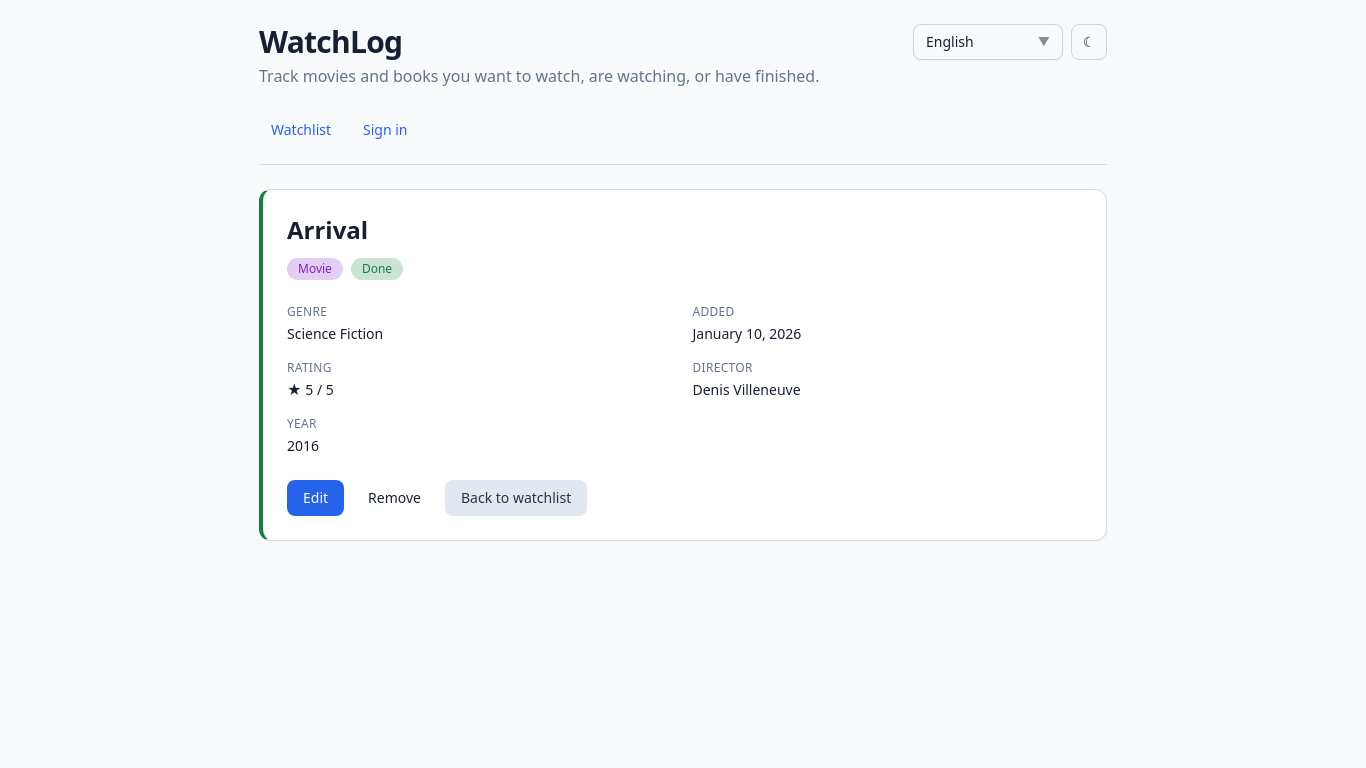
ItemDetailPage › restores an item when removal fails
expect the heading "Arrival" is shown: met, box top-left (287, 213), bottom-right (368, 246)
Click the button "Remove": click(395, 498) top-left (352, 480), bottom-right (437, 516)
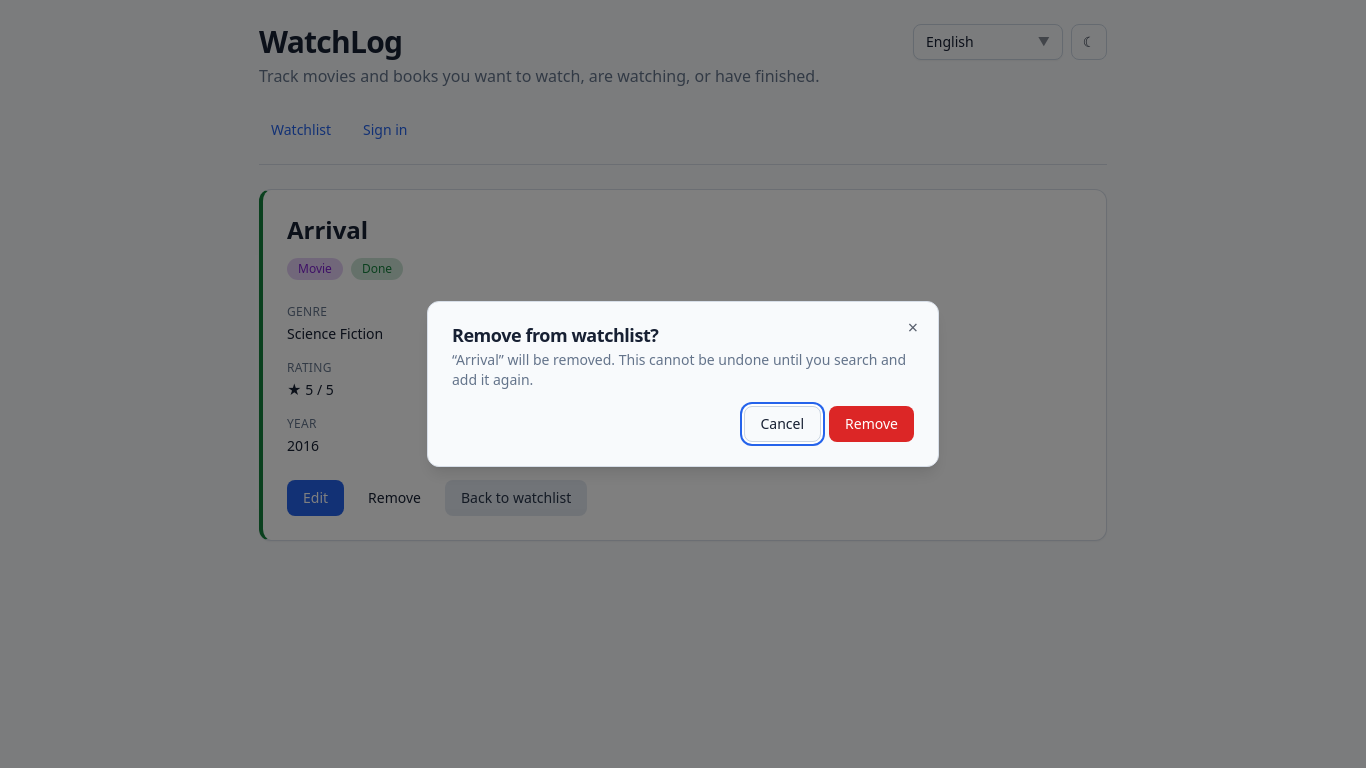
Click the button "Remove": click(872, 424) top-left (829, 406), bottom-right (914, 442)
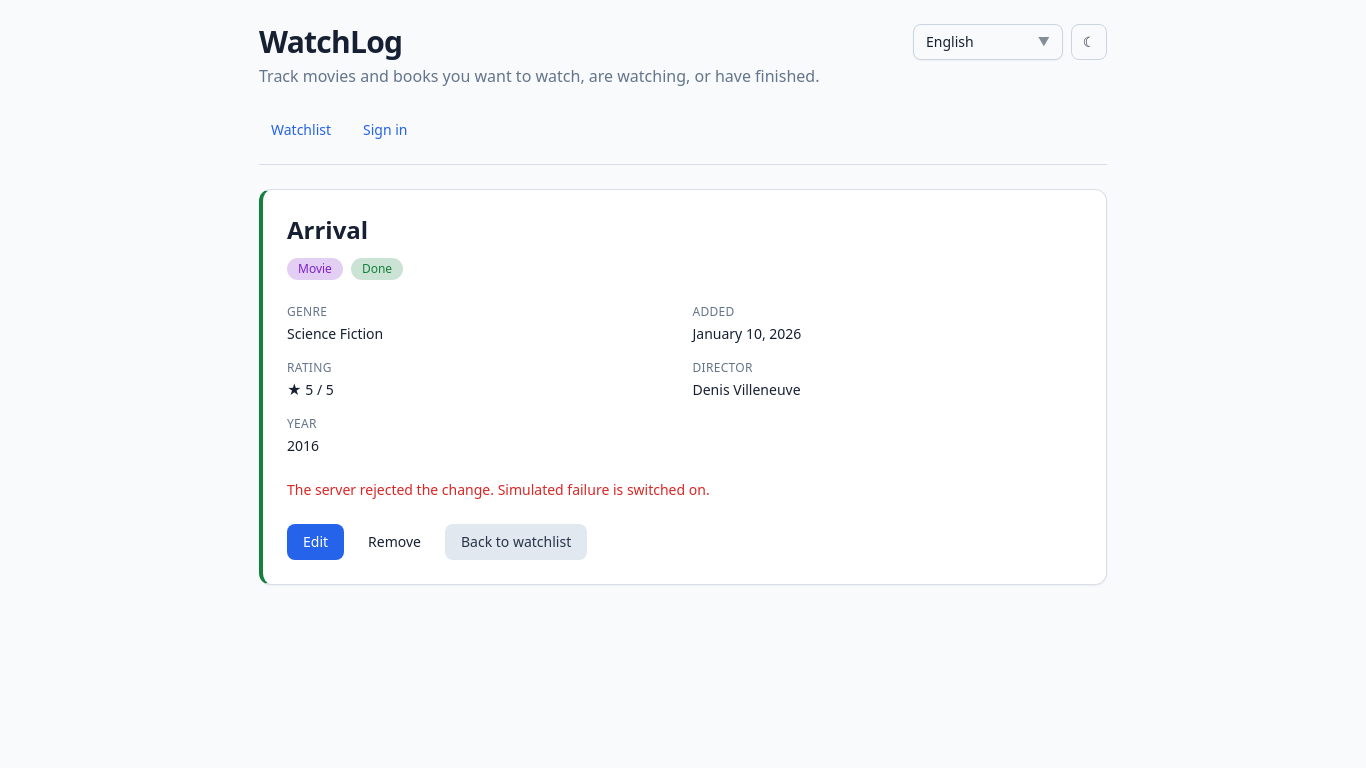
expect the heading "Arrival" is shown: met, box top-left (287, 213), bottom-right (368, 246)
expect the message shows "server rejected the change": met, box top-left (287, 480), bottom-right (710, 499)
